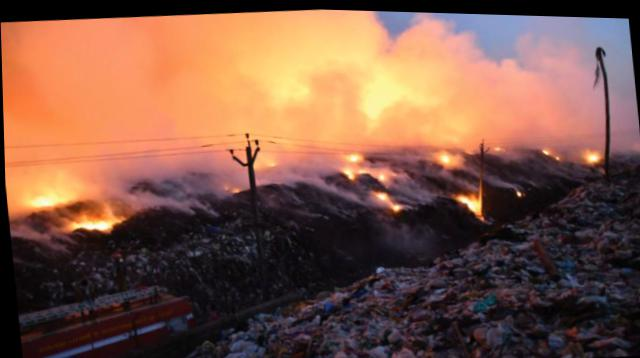fire: (27, 181, 82, 202)
smoke: (0, 6, 244, 173), (458, 11, 624, 140), (246, 6, 489, 64), (108, 152, 231, 212), (248, 95, 351, 141), (253, 150, 332, 189), (390, 172, 432, 199), (381, 138, 419, 164), (561, 129, 584, 161), (500, 134, 527, 161), (477, 166, 518, 183), (334, 185, 359, 196)
